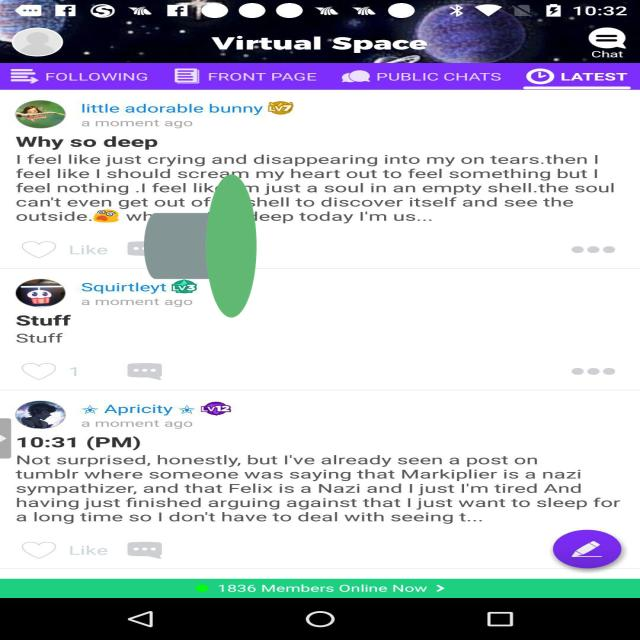social proof: (144, 86, 257, 406)
